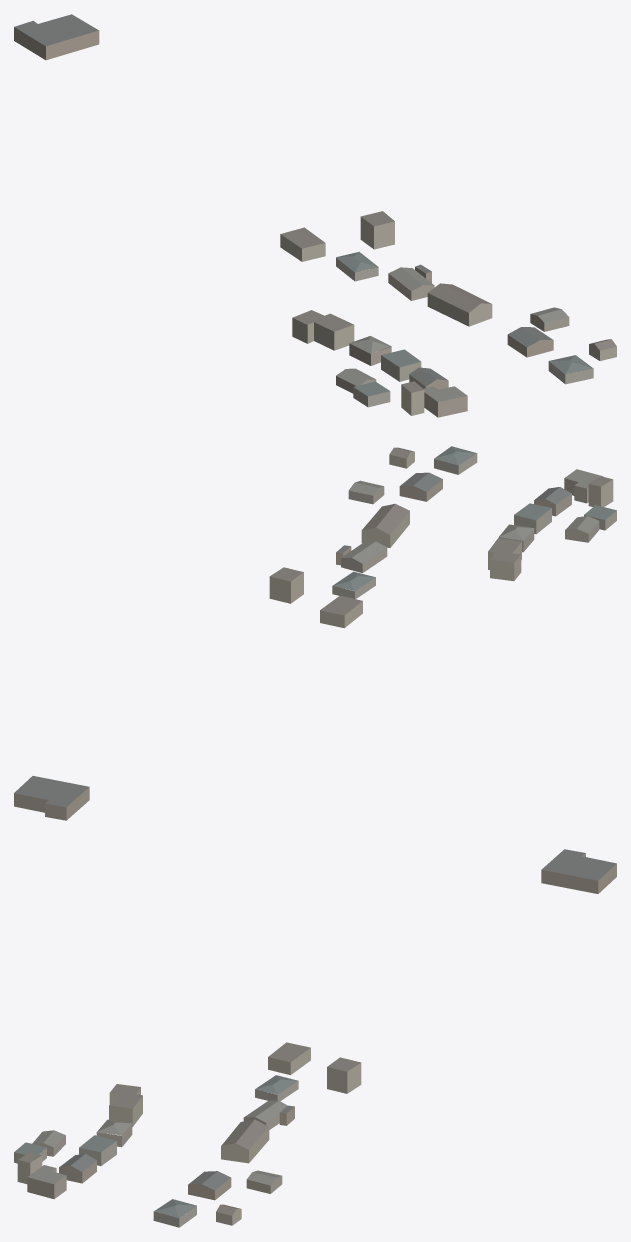
Rendered from 42dd0a595312-chunk-1208_11843.glb.
3 renders of one model, top to bottom at view 1: azimuth 30°, elevation 25°; view 2: azimuth 150°, elevation 25°; view 3: azimuth 330°, elevation 25°, orthographic. The views are drawn at different scales.
Visible parts, largest first — view 1: building_111620, building_58214, building_138713, building_76251, building_84093, building_87441, building_104394, building_8498, building_76849, building_26499, building_154781, building_5073 (+5 smaller); view 2: building_111620, building_58214, building_138713, building_87441, building_76251, building_8498, building_104394, building_76849, building_154781, building_26499, building_84093, building_117608 (+4 smaller); view 3: building_111620, building_58214, building_138713, building_87441, building_76251, building_84093, building_104394, building_76849, building_154781, building_146794, building_26499, building_8498 (+4 smaller).
Boxes of the visible parts, x1,y1,x2,y2 form: building_111620: [14, 14, 99, 60]; building_58214: [427, 283, 492, 326]; building_138713: [292, 310, 354, 350]; building_76251: [280, 227, 325, 261]; building_84093: [423, 386, 467, 417]; building_87441: [360, 211, 394, 249]; building_104394: [507, 327, 553, 357]; building_8498: [388, 267, 434, 300]; building_76849: [548, 355, 593, 384]; building_26499: [381, 349, 421, 381]; building_154781: [336, 251, 378, 281]; building_5073: [349, 336, 391, 365]; building_111620: [14, 776, 89, 820]; building_58214: [361, 503, 409, 547]; building_138713: [488, 538, 521, 581]; building_87441: [269, 567, 303, 603]; building_76251: [320, 595, 362, 628]; building_8498: [341, 541, 387, 573]; building_104394: [399, 472, 442, 501]; building_76849: [434, 446, 477, 474]; building_154781: [332, 571, 375, 598]; building_26499: [514, 503, 551, 534]; building_84093: [564, 469, 603, 503]; building_117608: [565, 516, 599, 542]; building_111620: [541, 849, 616, 893]; building_58214: [221, 1119, 269, 1163]; building_138713: [109, 1084, 142, 1126]; building_87441: [327, 1057, 361, 1093]; building_76251: [268, 1042, 310, 1075]; building_84093: [27, 1165, 66, 1199]; building_104394: [188, 1171, 231, 1200]; building_76849: [153, 1199, 196, 1227]; building_154781: [255, 1075, 298, 1101]; building_146794: [59, 1153, 96, 1183]; building_26499: [79, 1135, 116, 1165]; building_8498: [243, 1100, 287, 1129].
Bounding box in the file's own units: 82.37 × 7.6 × 294.
